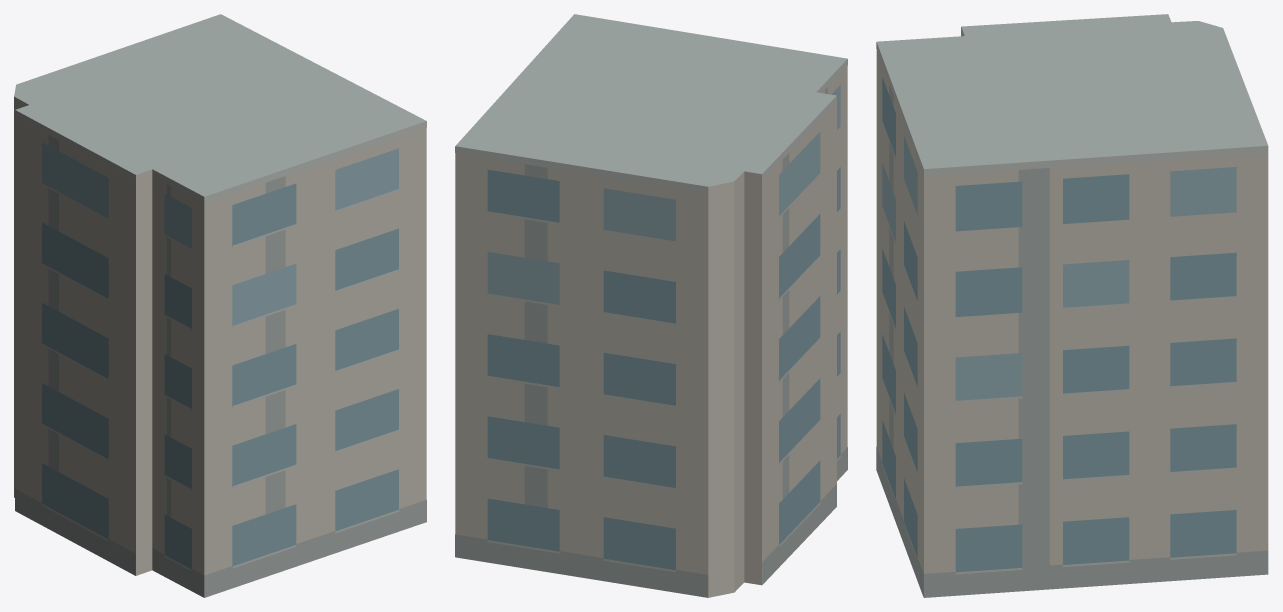
Rendered from survey-upis-32760582.glb.
The picture shows the model from 3 angles, left to right: view 1: azimuth 30°, elevation 25°; view 2: azimuth 150°, elevation 25°; view 3: azimuth 270°, elevation 25°; orthographic projection. The views are drawn at different scales.
Visible parts, largest first — view 1: survey-upis-32760582.tmp; view 2: survey-upis-32760582.tmp; view 3: survey-upis-32760582.tmp.
Part boxes in pixels (x1=…): survey-upis-32760582.tmp: x1=14, y1=14, x2=426, y2=597; survey-upis-32760582.tmp: x1=455, y1=14, x2=847, y2=597; survey-upis-32760582.tmp: x1=876, y1=14, x2=1268, y2=597.
Size of the model in its own units: 11.19 by 14.4 by 11.94.
